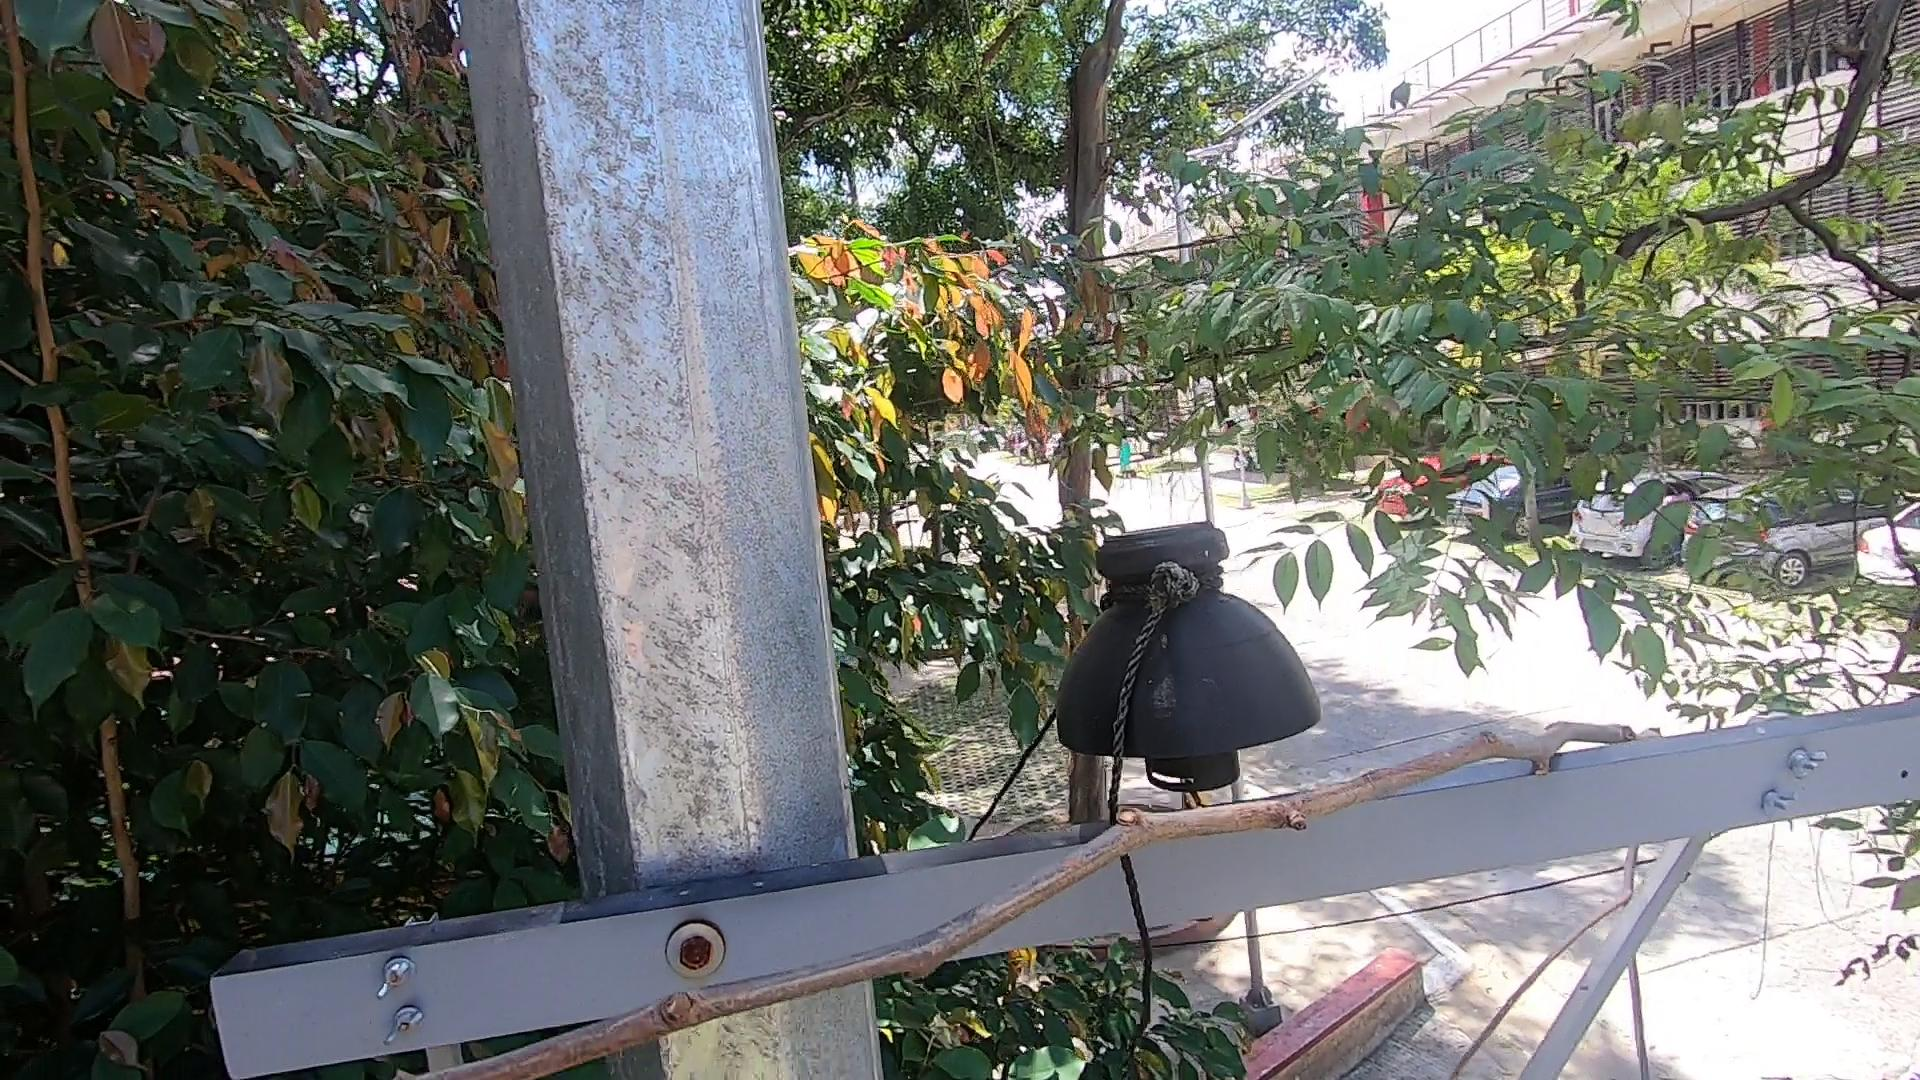tree branch: (356, 721, 1644, 1080), (1437, 844, 1650, 1080), (1625, 957, 1665, 1080)
